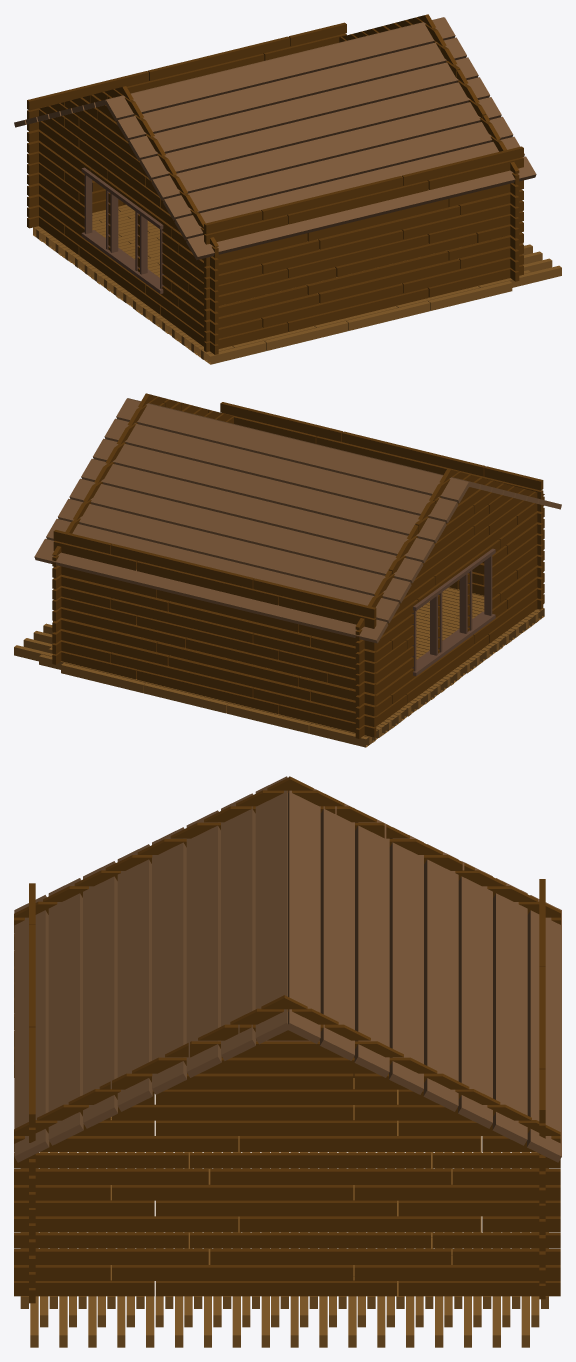
Rendered from RoomWoodLines.fbx.
3 renders of one model, top to bottom at view 1: azimuth 30°, elevation 25°; view 2: azimuth 150°, elevation 25°; view 3: azimuth 270°, elevation 25°, orthographic. The views are drawn at different scales.
Parts seen in each view (by area): view 1: Roof.001, Cube.011, Cube.021, Cube.009, Cube.020, Cube.026, Cube.019, Roof2.001; view 2: Roof2.001, Cube.020, Cube.021, Cube.009, Cube.011, Cube.026, Cube.019, Roof.001; view 3: Cube.019, Roof2.001, Roof.001, Cube.009, Cube.021, Cube.011, Cube.020.
Part boxes in pixels (box(x1,y1,x2,y2)): Roof.001: box(105, 17, 536, 260); Cube.011: box(204, 146, 523, 352); Cube.021: box(37, 86, 218, 354); Cube.009: box(33, 204, 561, 364); Cube.020: box(27, 22, 346, 228); Cube.026: box(81, 167, 163, 293); Cube.019: box(339, 14, 519, 281); Roof2.001: box(14, 17, 444, 127); Roof2.001: box(34, 398, 468, 643); Cube.020: box(53, 530, 376, 737); Cube.021: box(355, 469, 544, 738); Cube.009: box(14, 587, 544, 747); Cube.011: box(220, 402, 543, 609); Cube.026: box(412, 548, 495, 676); Cube.019: box(52, 393, 234, 664); Roof.001: box(127, 398, 561, 509); Cube.019: box(14, 995, 560, 1296); Roof2.001: box(286, 776, 561, 1162); Roof.001: box(14, 776, 287, 1162); Cube.009: box(20, 1078, 548, 1347); Cube.021: box(14, 776, 560, 1077); Cube.011: box(29, 883, 35, 1303); Cube.020: box(539, 879, 545, 1299).
Size of the model in its own units: 1726 by 942 by 1486.
